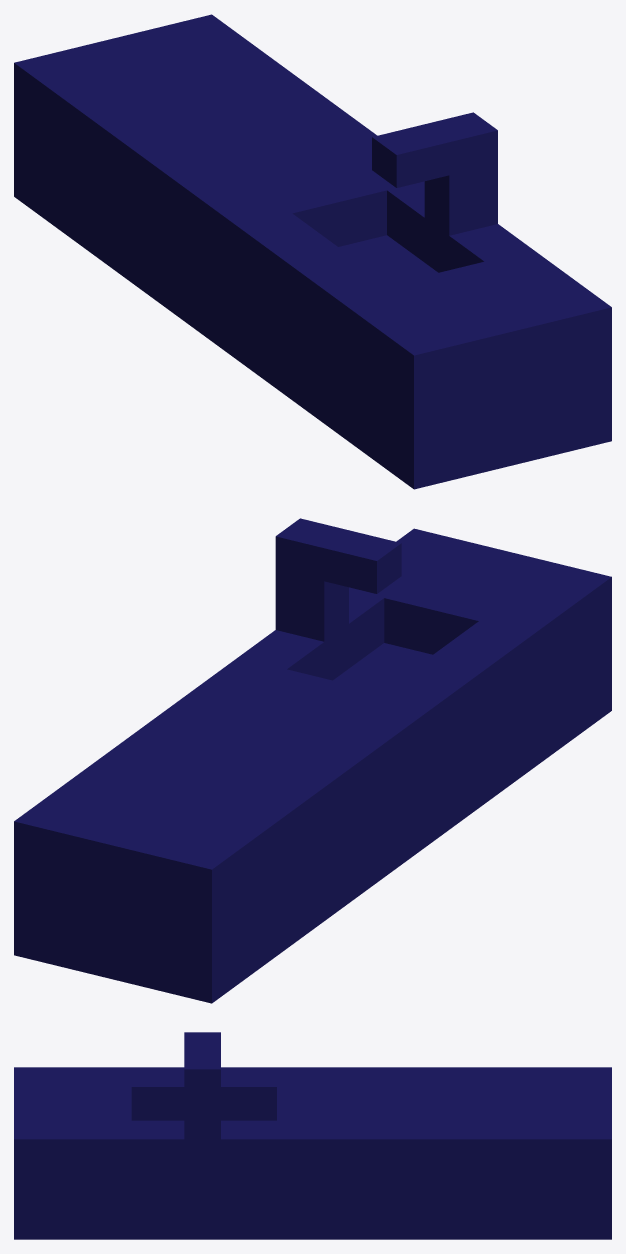
The model's file is Sink.obj.
The picture shows the model from 3 angles, top to bottom: view 1: azimuth 30°, elevation 25°; view 2: azimuth 150°, elevation 25°; view 3: azimuth 270°, elevation 25°; orthographic projection. The views are drawn at different scales.
Parts seen in each view (by area): view 1: pCube4; view 2: pCube4; view 3: pCube4.
Boxes of the visible parts, x1,y1,x2,y2 form: pCube4: [14, 14, 611, 489]; pCube4: [14, 518, 611, 1003]; pCube4: [14, 1032, 611, 1239].
Bounding box in the file's own units: 9.07 × 9.96 × 31.75.
